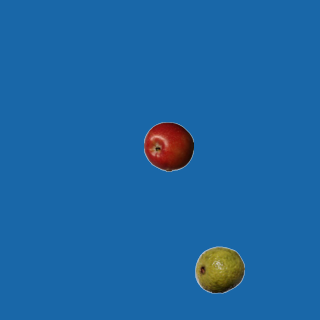Apple Braeburn: (143, 121, 193, 171)
Guava: (194, 244, 244, 294)
